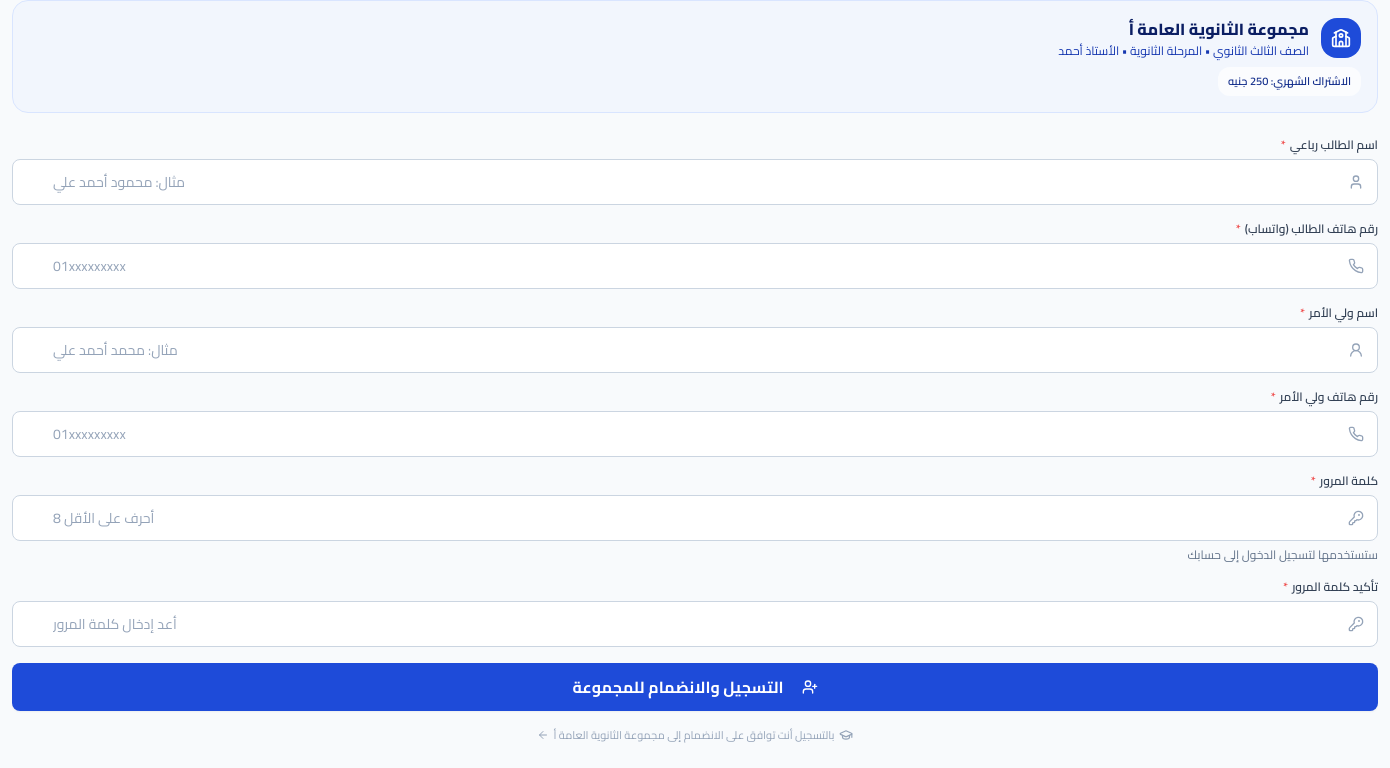
Test: GroupRegistrationForm › rejects invalid Egyptian phone numbers
In the field labelled "اسم الطالب رباعي*": (695, 182) [12,158,1378,204], type "محمود أحمد علي مصطفى"
In the field labelled "رقم هاتف الطالب (واتساب)*": (695, 266) [12,242,1378,288], type "01012345678"
In the field labelled "اسم ولي الأمر*": (695, 350) [12,326,1378,372], type "محمد أحمد علي"
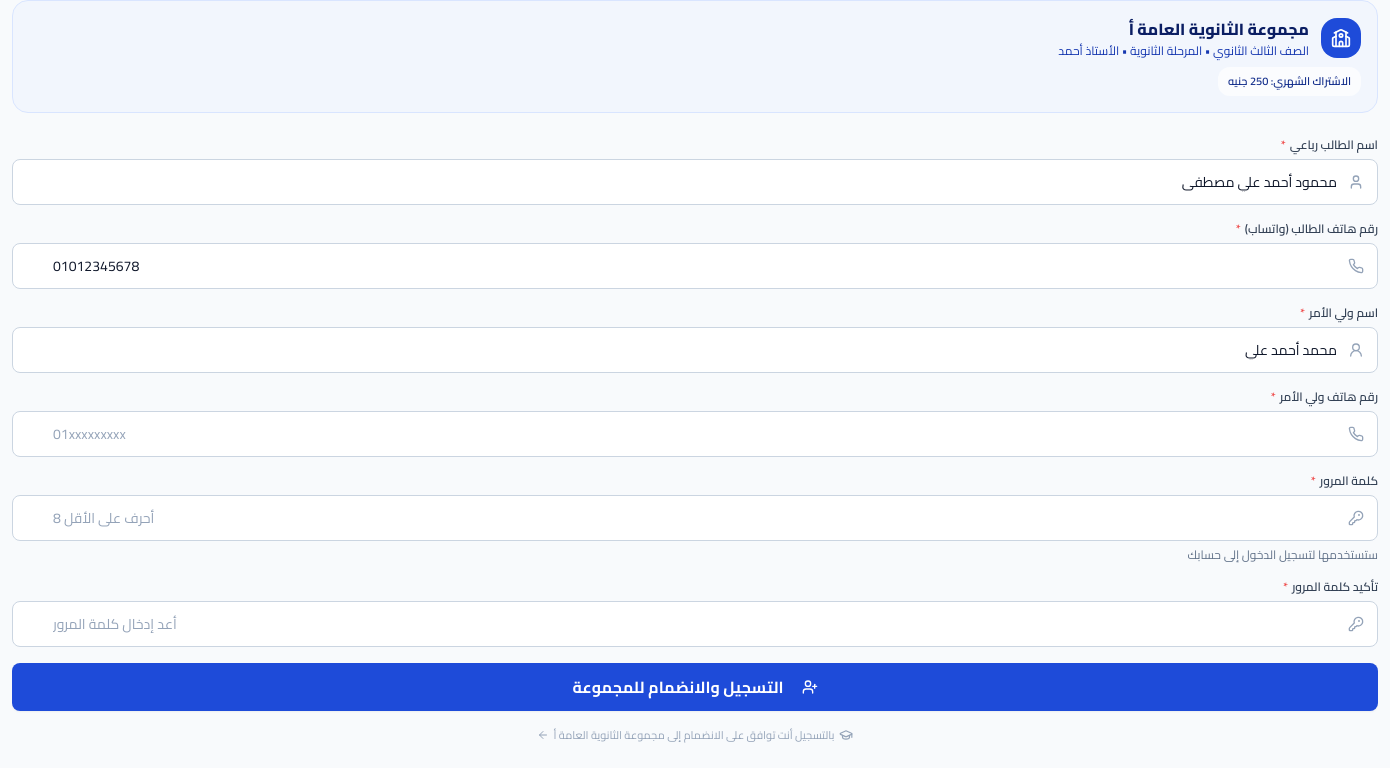
In the field labelled "رقم هاتف ولي الأمر*": (695, 434) [12,410,1378,456], type "01098765432"
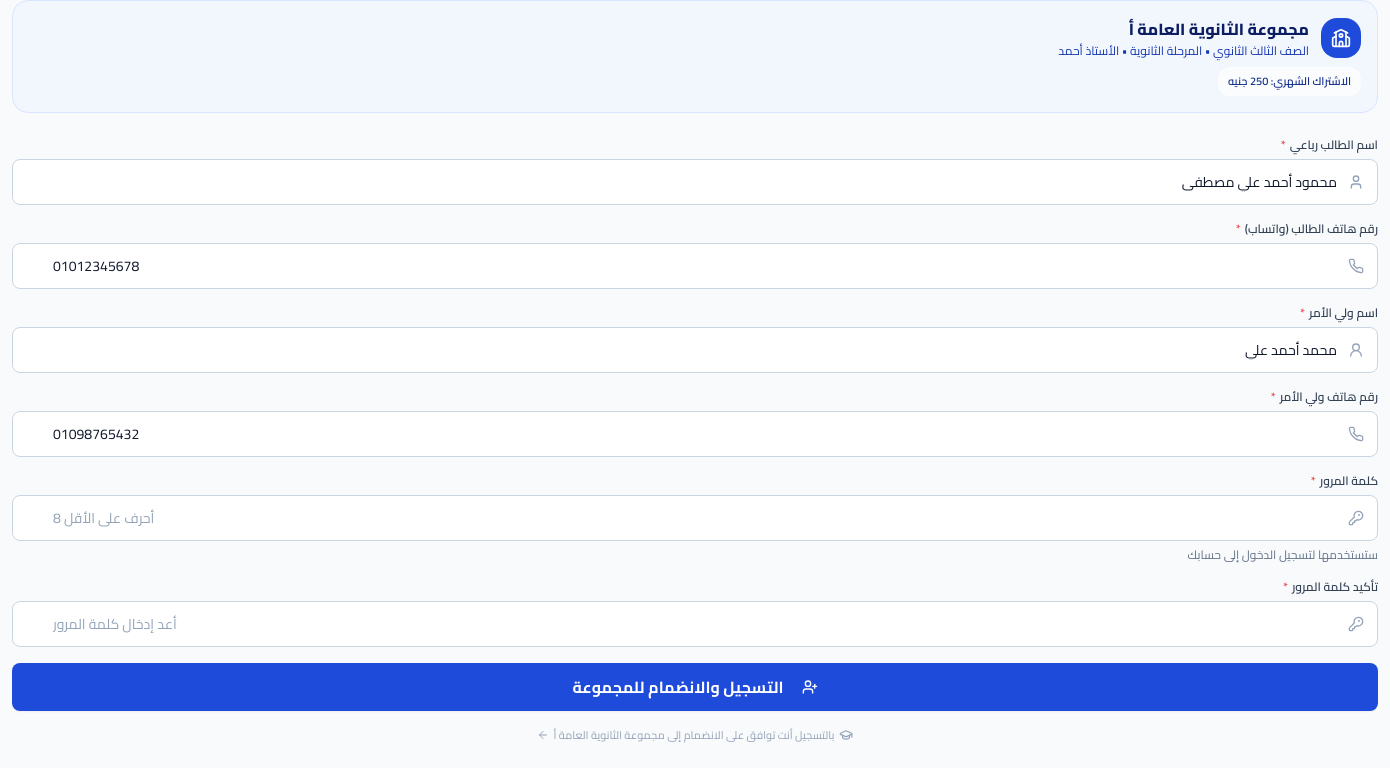
In the password field labelled "كلمة المرور*": (695, 518) [12,494,1378,540], type "Str0ngPass!"
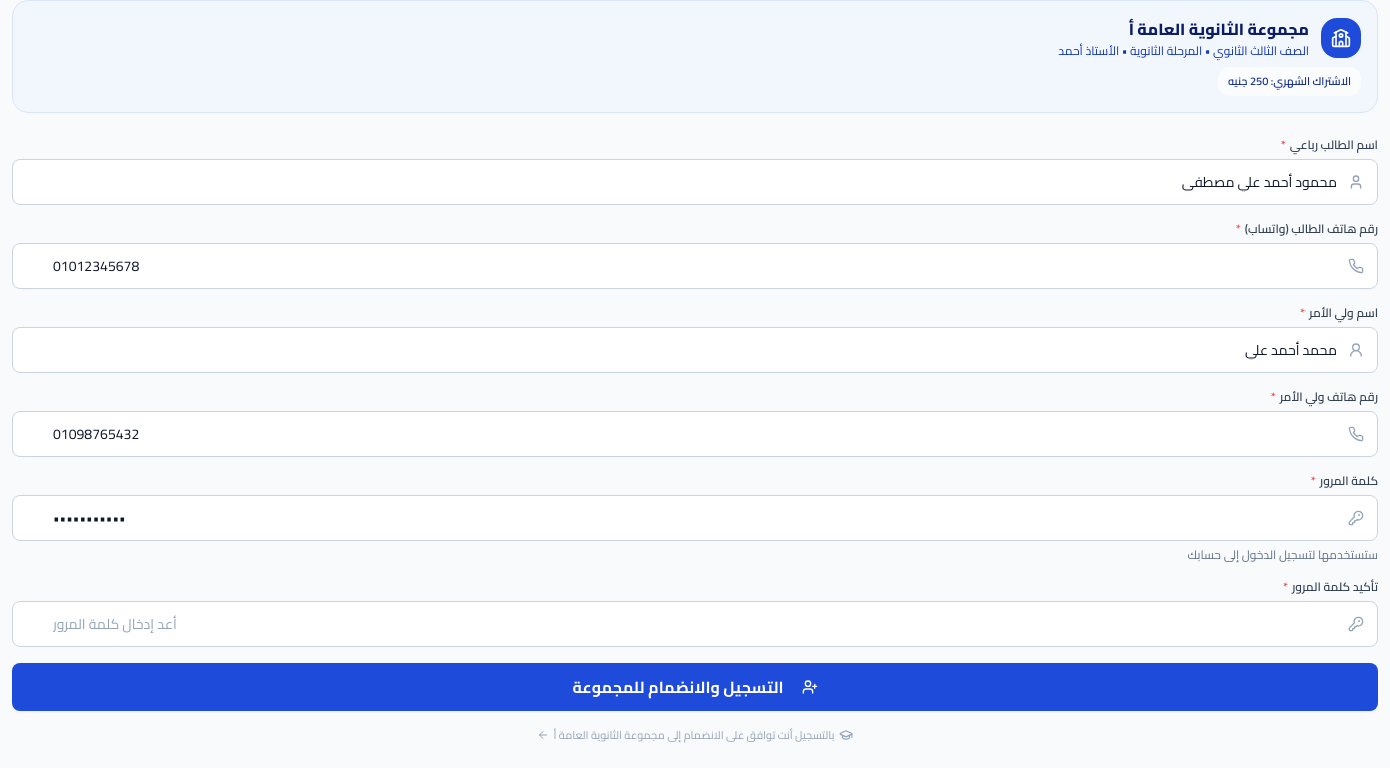
In the password field labelled "تأكيد كلمة المرور*": (695, 624) [12,600,1378,646], type "Str0ngPass!"
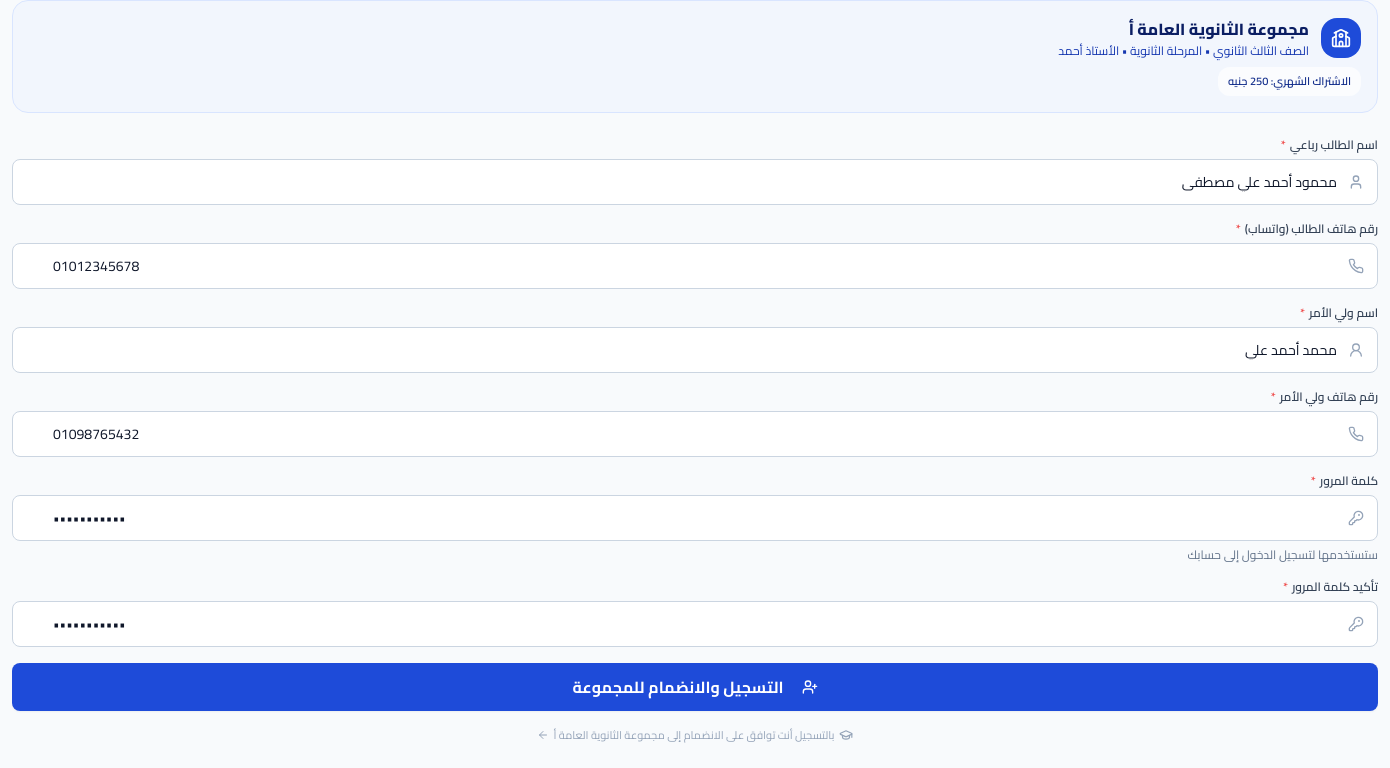
Replace the text in the field labelled "رقم هاتف الطالب (واتساب)*" with "012345": (695, 266) [12,242,1378,288]
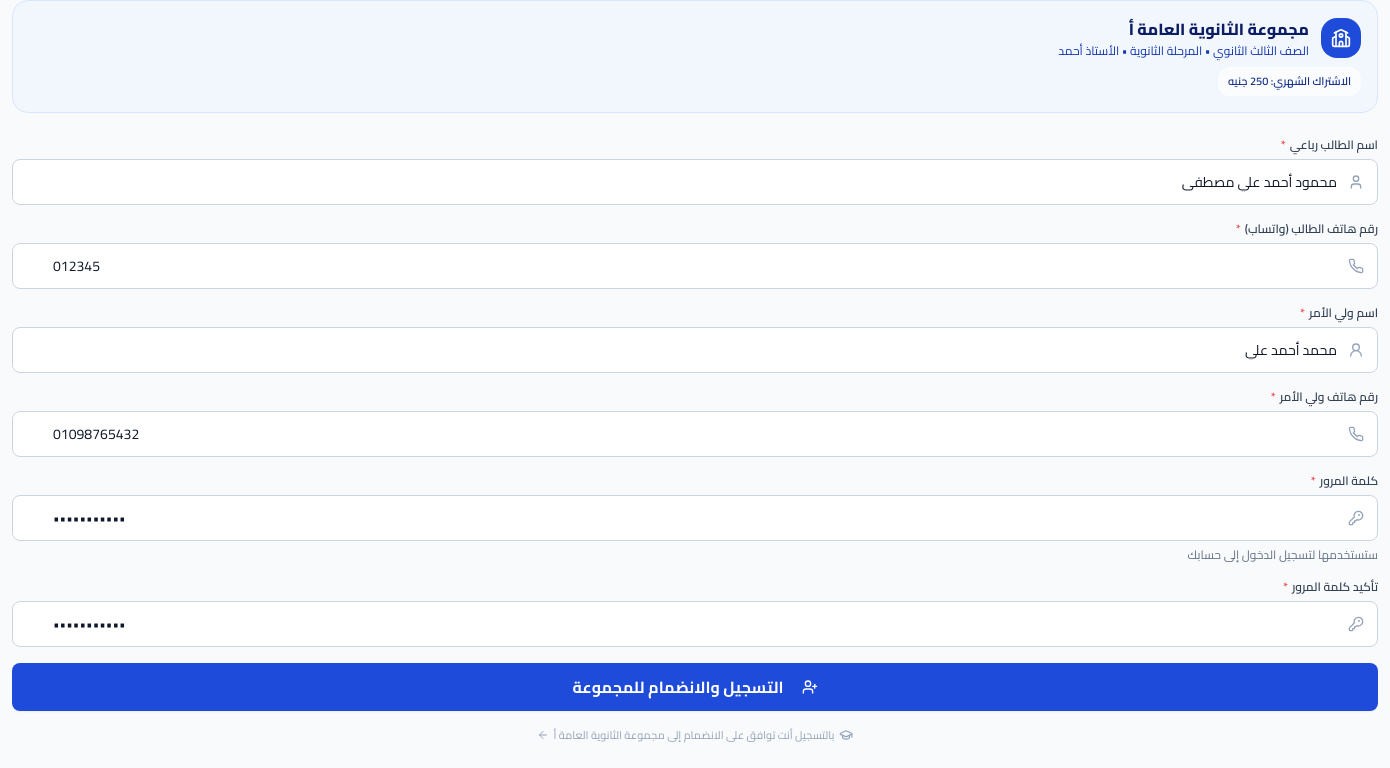
Click the button "التسجيل والانضمام للمجموعة": (695, 686) [12,662,1378,710]
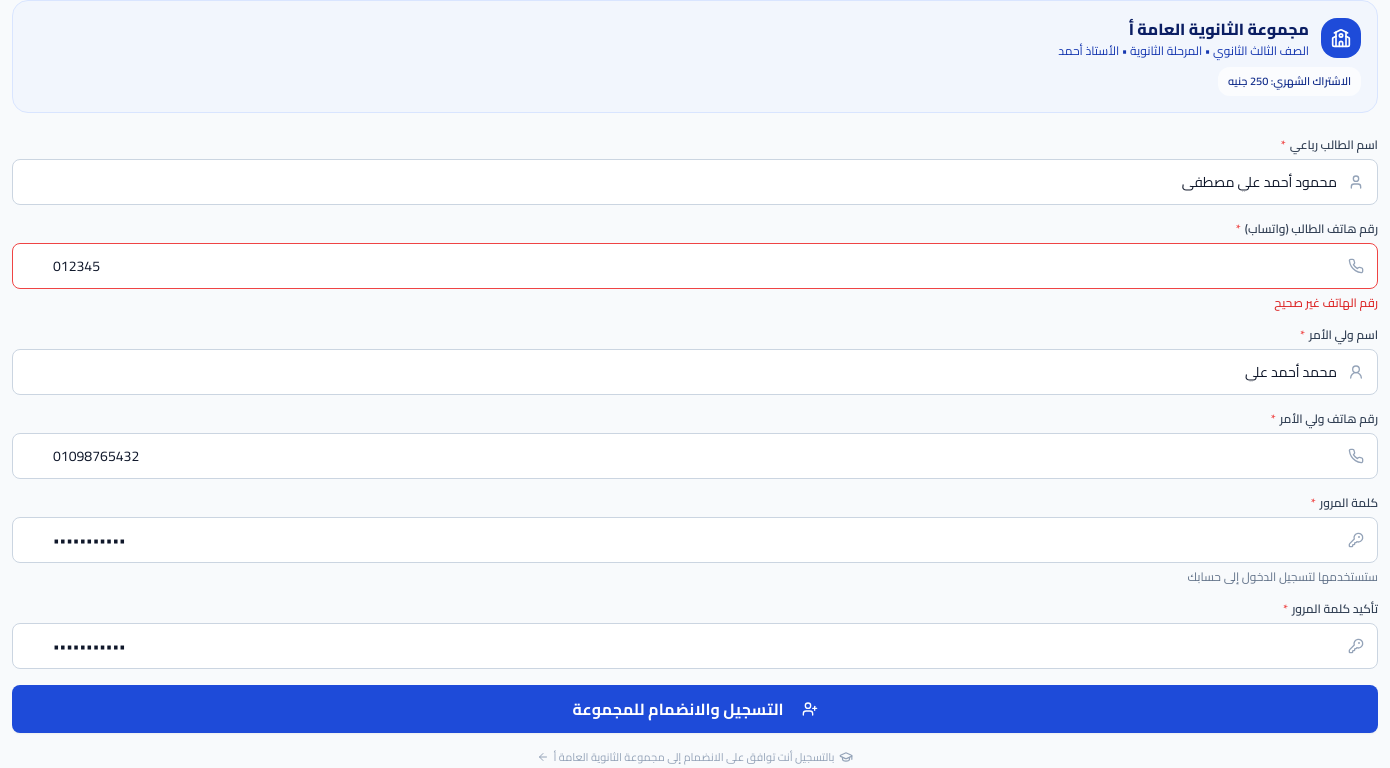
expect the text "رقم الهاتف غير صحيح" is shown: met, box [1274,290,1378,314]
